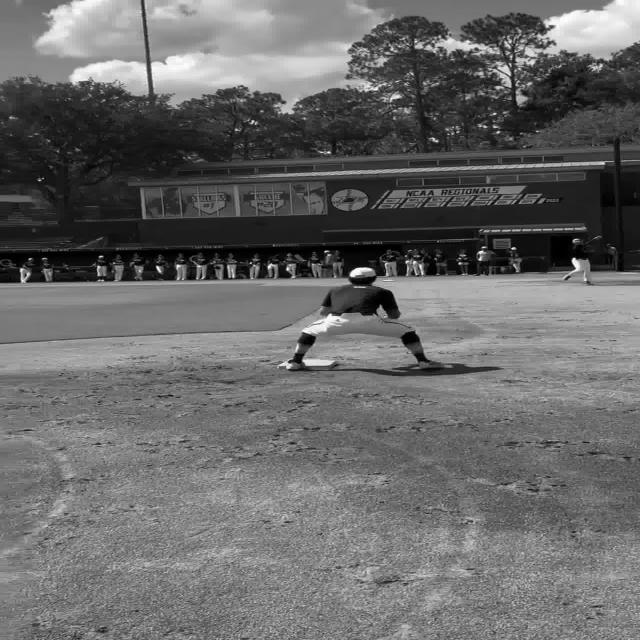base: (302, 359, 338, 370), (278, 361, 289, 369)
baseball: (511, 246, 518, 250)
shoe: (418, 360, 442, 370), (287, 361, 307, 371)
